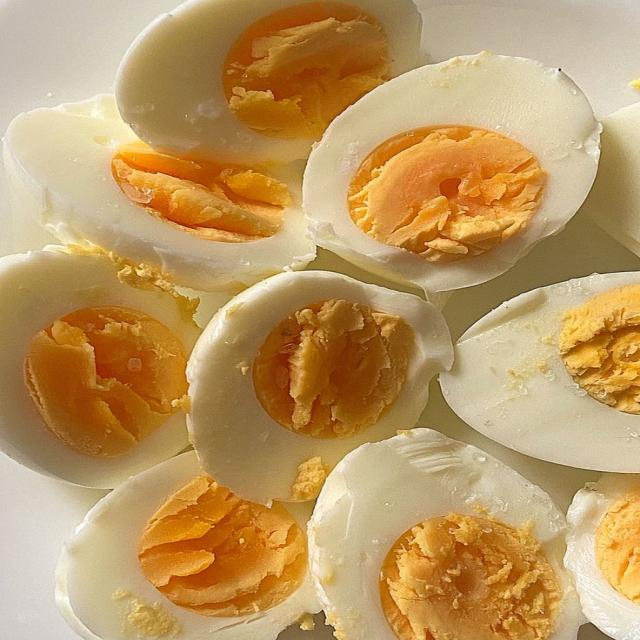egg boiled: (304, 53, 599, 290), (187, 271, 452, 503), (4, 95, 314, 290), (309, 429, 583, 639), (116, 0, 421, 163), (56, 452, 319, 639), (0, 248, 199, 487), (440, 273, 639, 472), (565, 474, 639, 639), (585, 104, 639, 255)
